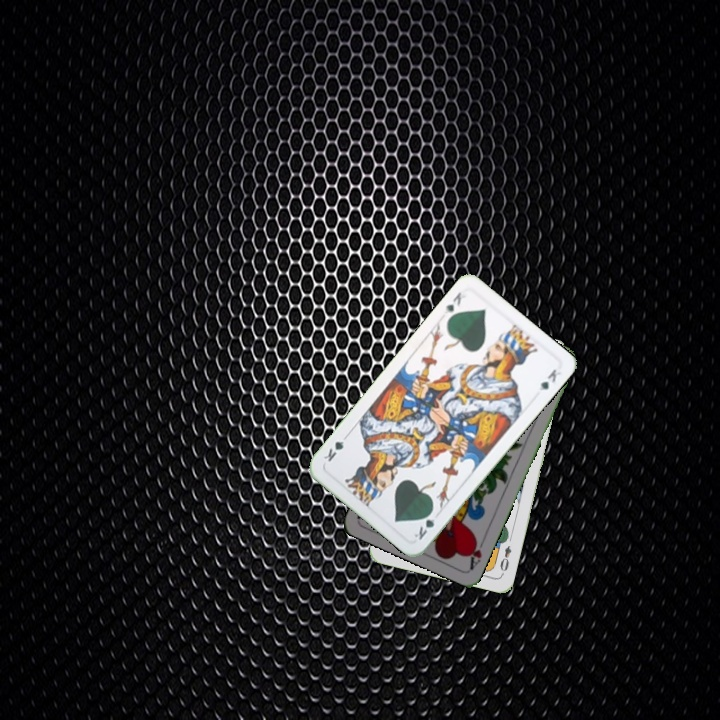EO: (496, 541, 514, 577)
GK: (410, 506, 437, 543), (440, 288, 468, 317)
HA: (464, 533, 488, 572)
